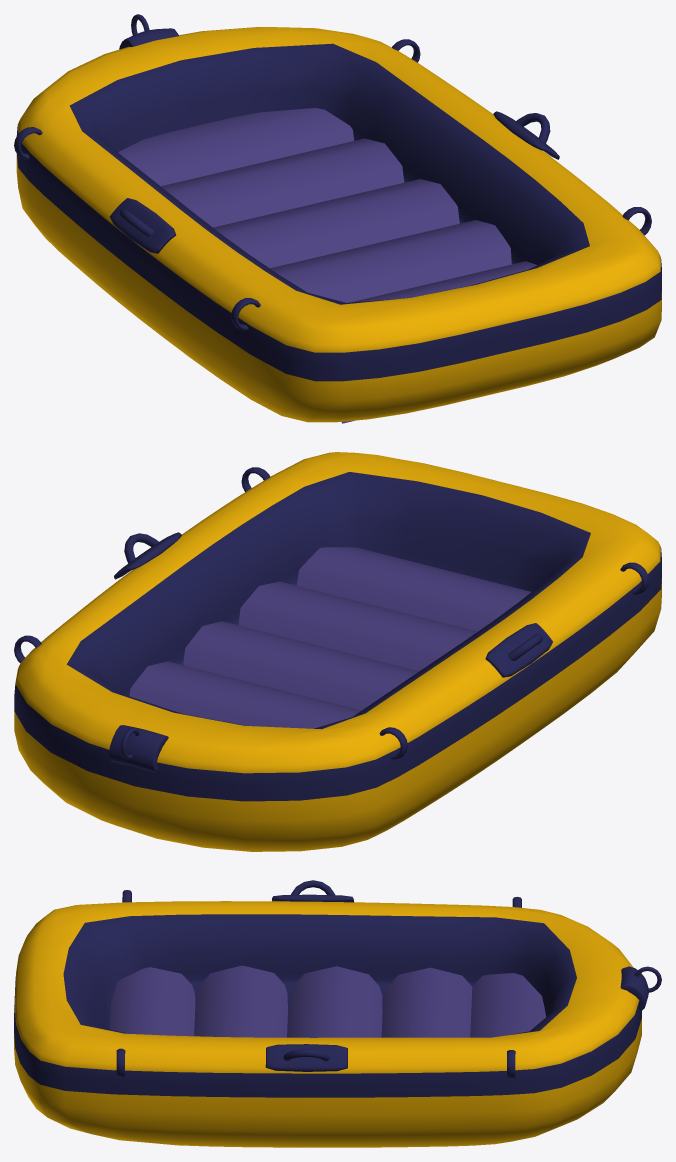
The model's file is SmallBoat_Inflatable.fbx.
3 views of the same model, one above another, from view 1: azimuth 30°, elevation 25°; view 2: azimuth 150°, elevation 25°; view 3: azimuth 270°, elevation 25° (orthographic). The views are drawn at different scales.
Visible parts, largest first — view 1: boatPH1; view 2: boatPH1; view 3: boatPH1.
Boxes of the visible parts, x1,y1,x2,y2 form: boatPH1: (14, 14, 661, 423); boatPH1: (14, 452, 661, 851); boatPH1: (14, 880, 661, 1147).
Size of the model in its own units: 789 by 272 by 1248.
